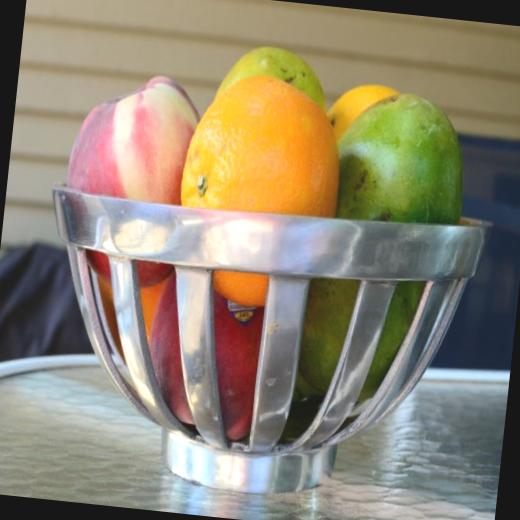Apple: (56, 76, 200, 256), (140, 268, 270, 446)
Grape: (168, 65, 349, 313), (90, 267, 166, 347), (322, 79, 398, 143)
